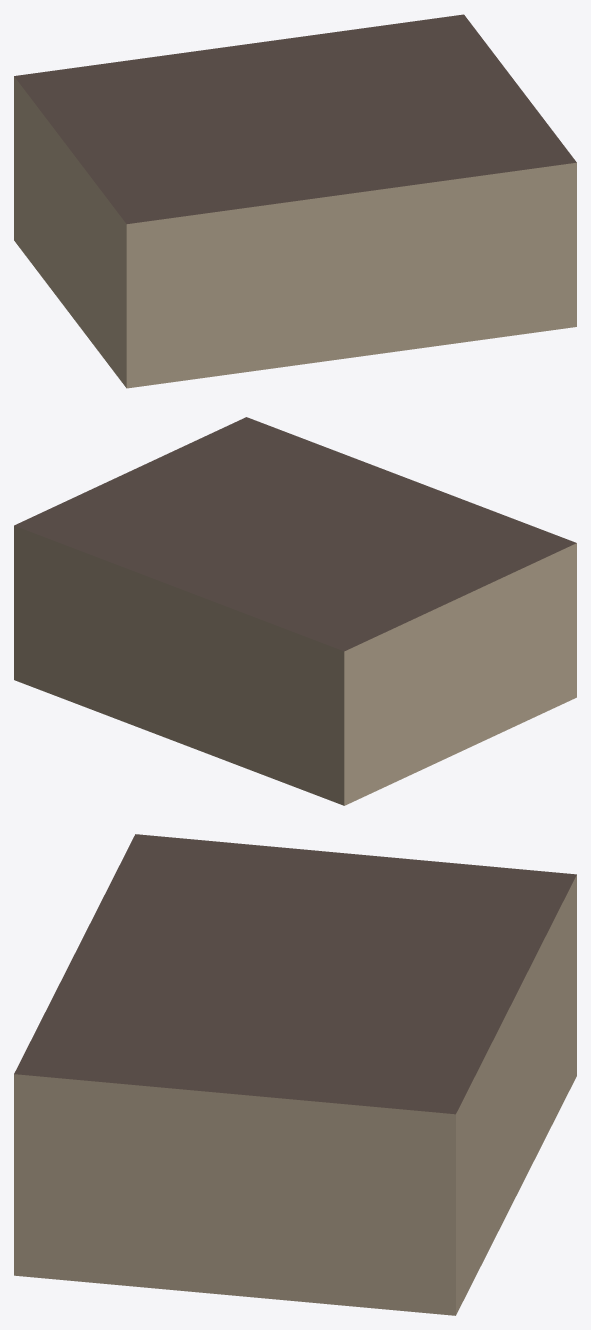
3 views of the same model, one above another, from view 1: azimuth 30°, elevation 25°; view 2: azimuth 150°, elevation 25°; view 3: azimuth 270°, elevation 25° (orthographic). The views are drawn at different scales.
Parts seen in each view (by area): view 1: HP-w859488861; view 2: HP-w859488861; view 3: HP-w859488861.
Part boxes in pixels (<box>): HP-w859488861: <box>14,14,576,388</box>; HP-w859488861: <box>14,417,576,805</box>; HP-w859488861: <box>14,834,576,1315</box>.
Bounding box in the file's own units: 26.83 × 9 × 22.78.
